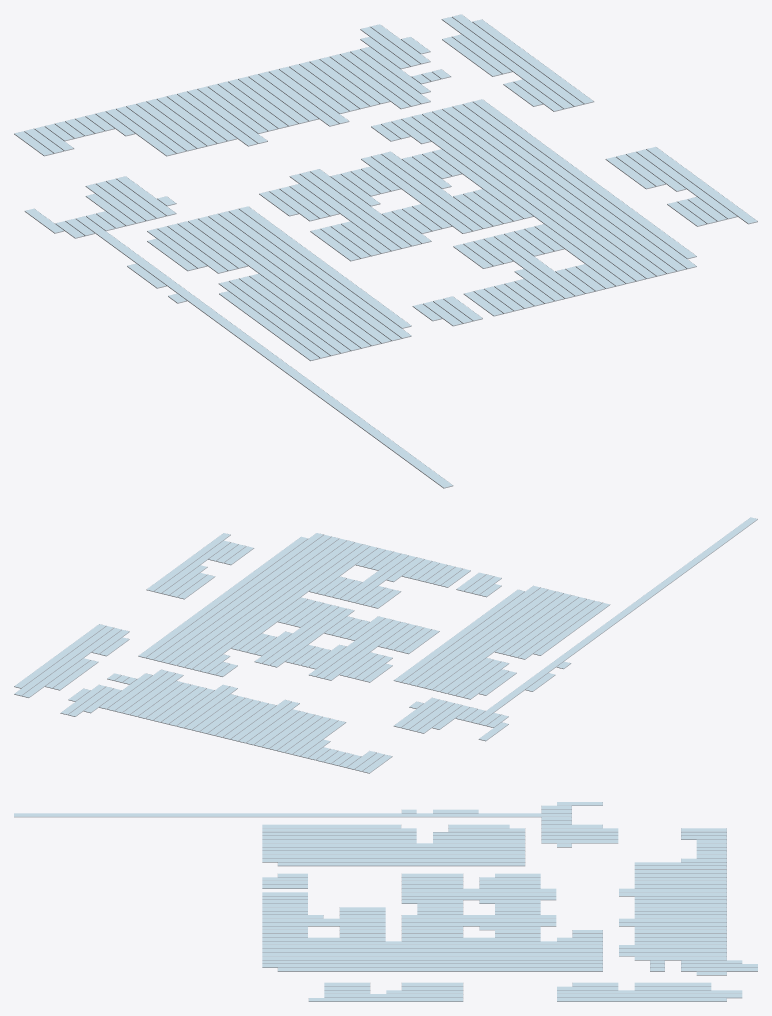
Rendered from SM_MPR4_SolarBank_01_1_LOD1.fbx.
3 views of the same model, one above another, from view 1: azimuth 30°, elevation 25°; view 2: azimuth 150°, elevation 25°; view 3: azimuth 270°, elevation 25° (orthographic). The views are drawn at different scales.
Parts seen in each view (by area): view 1: SM_MPR4_SolarBank_01_1_LOD1; view 2: SM_MPR4_SolarBank_01_1_LOD1; view 3: SM_MPR4_SolarBank_01_1_LOD1.
Part boxes in pixels (x1=…): SM_MPR4_SolarBank_01_1_LOD1: x1=14, y1=14, x2=757, y2=488; SM_MPR4_SolarBank_01_1_LOD1: x1=14, y1=517, x2=757, y2=773; SM_MPR4_SolarBank_01_1_LOD1: x1=14, y1=802, x2=757, y2=1001.
Size of the model in its own units: 5929 by 9352 by 8.6.
